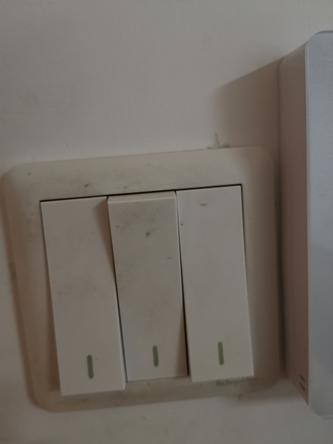switch: (29, 192, 133, 400), (103, 182, 197, 388), (169, 177, 261, 383)
